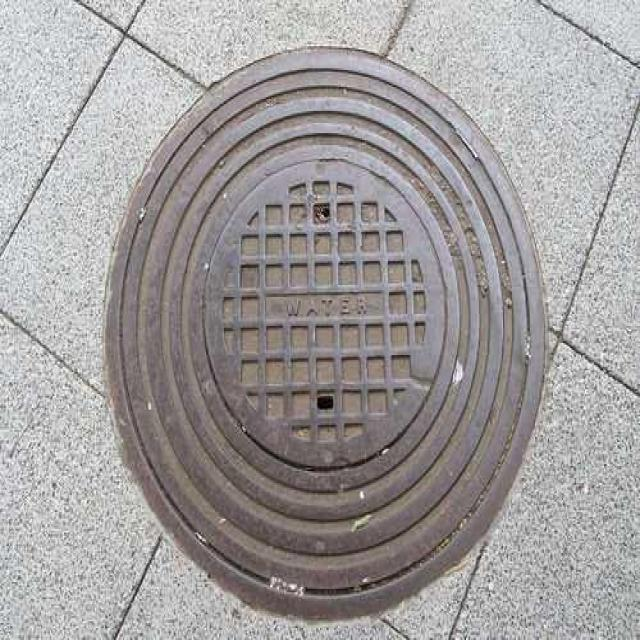manhole: (207, 162, 442, 466)
